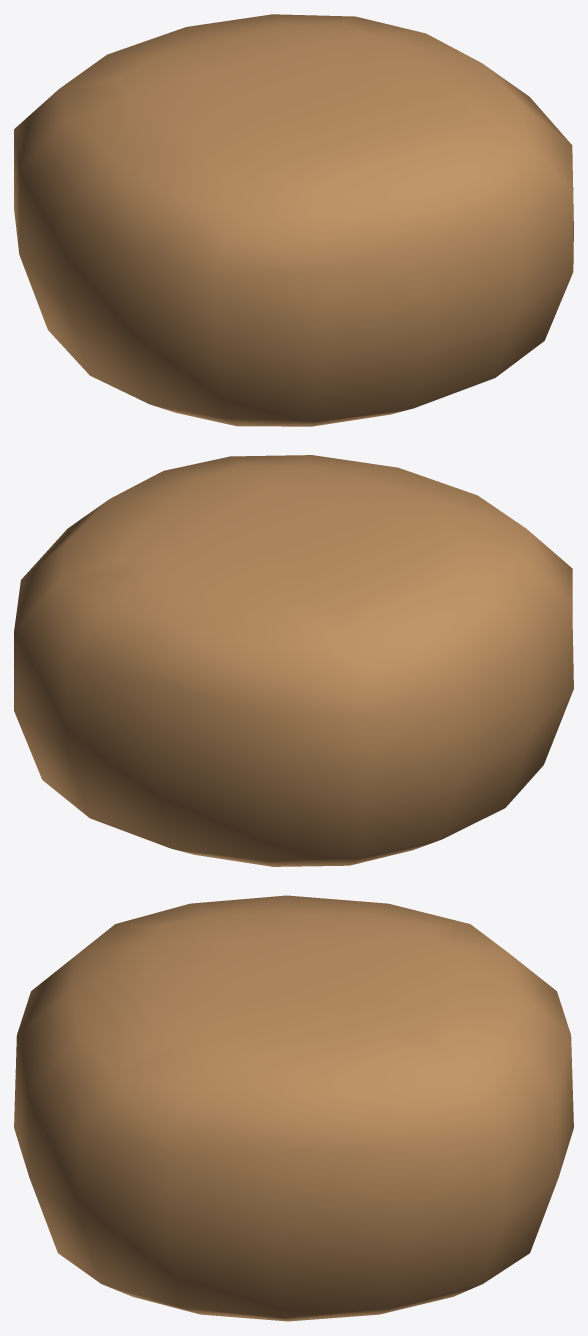
The model's file is terrain_W4A2a.fbx.
The picture shows the model from 3 angles, top to bottom: view 1: azimuth 30°, elevation 25°; view 2: azimuth 150°, elevation 25°; view 3: azimuth 270°, elevation 25°; orthographic projection. The views are drawn at different scales.
Visible parts, largest first — view 1: W2A4_a; view 2: W2A4_a; view 3: W2A4_a.
Part boxes in pixels (x1,y1,x2,y2): W2A4_a: (14, 14, 573, 426); W2A4_a: (14, 455, 573, 866); W2A4_a: (14, 895, 573, 1321).
Size of the model in its own units: 1551 by 816 by 1551.
